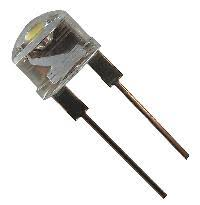LED: (12, 8, 190, 199)
